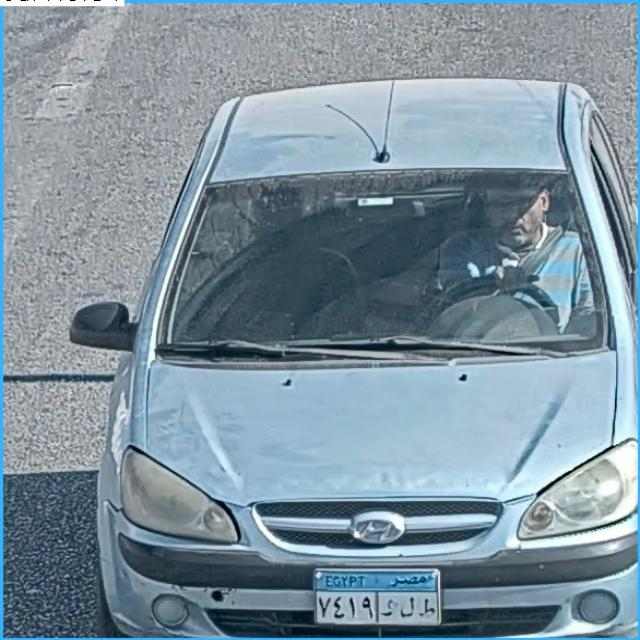windshield: (161, 180, 618, 350)
